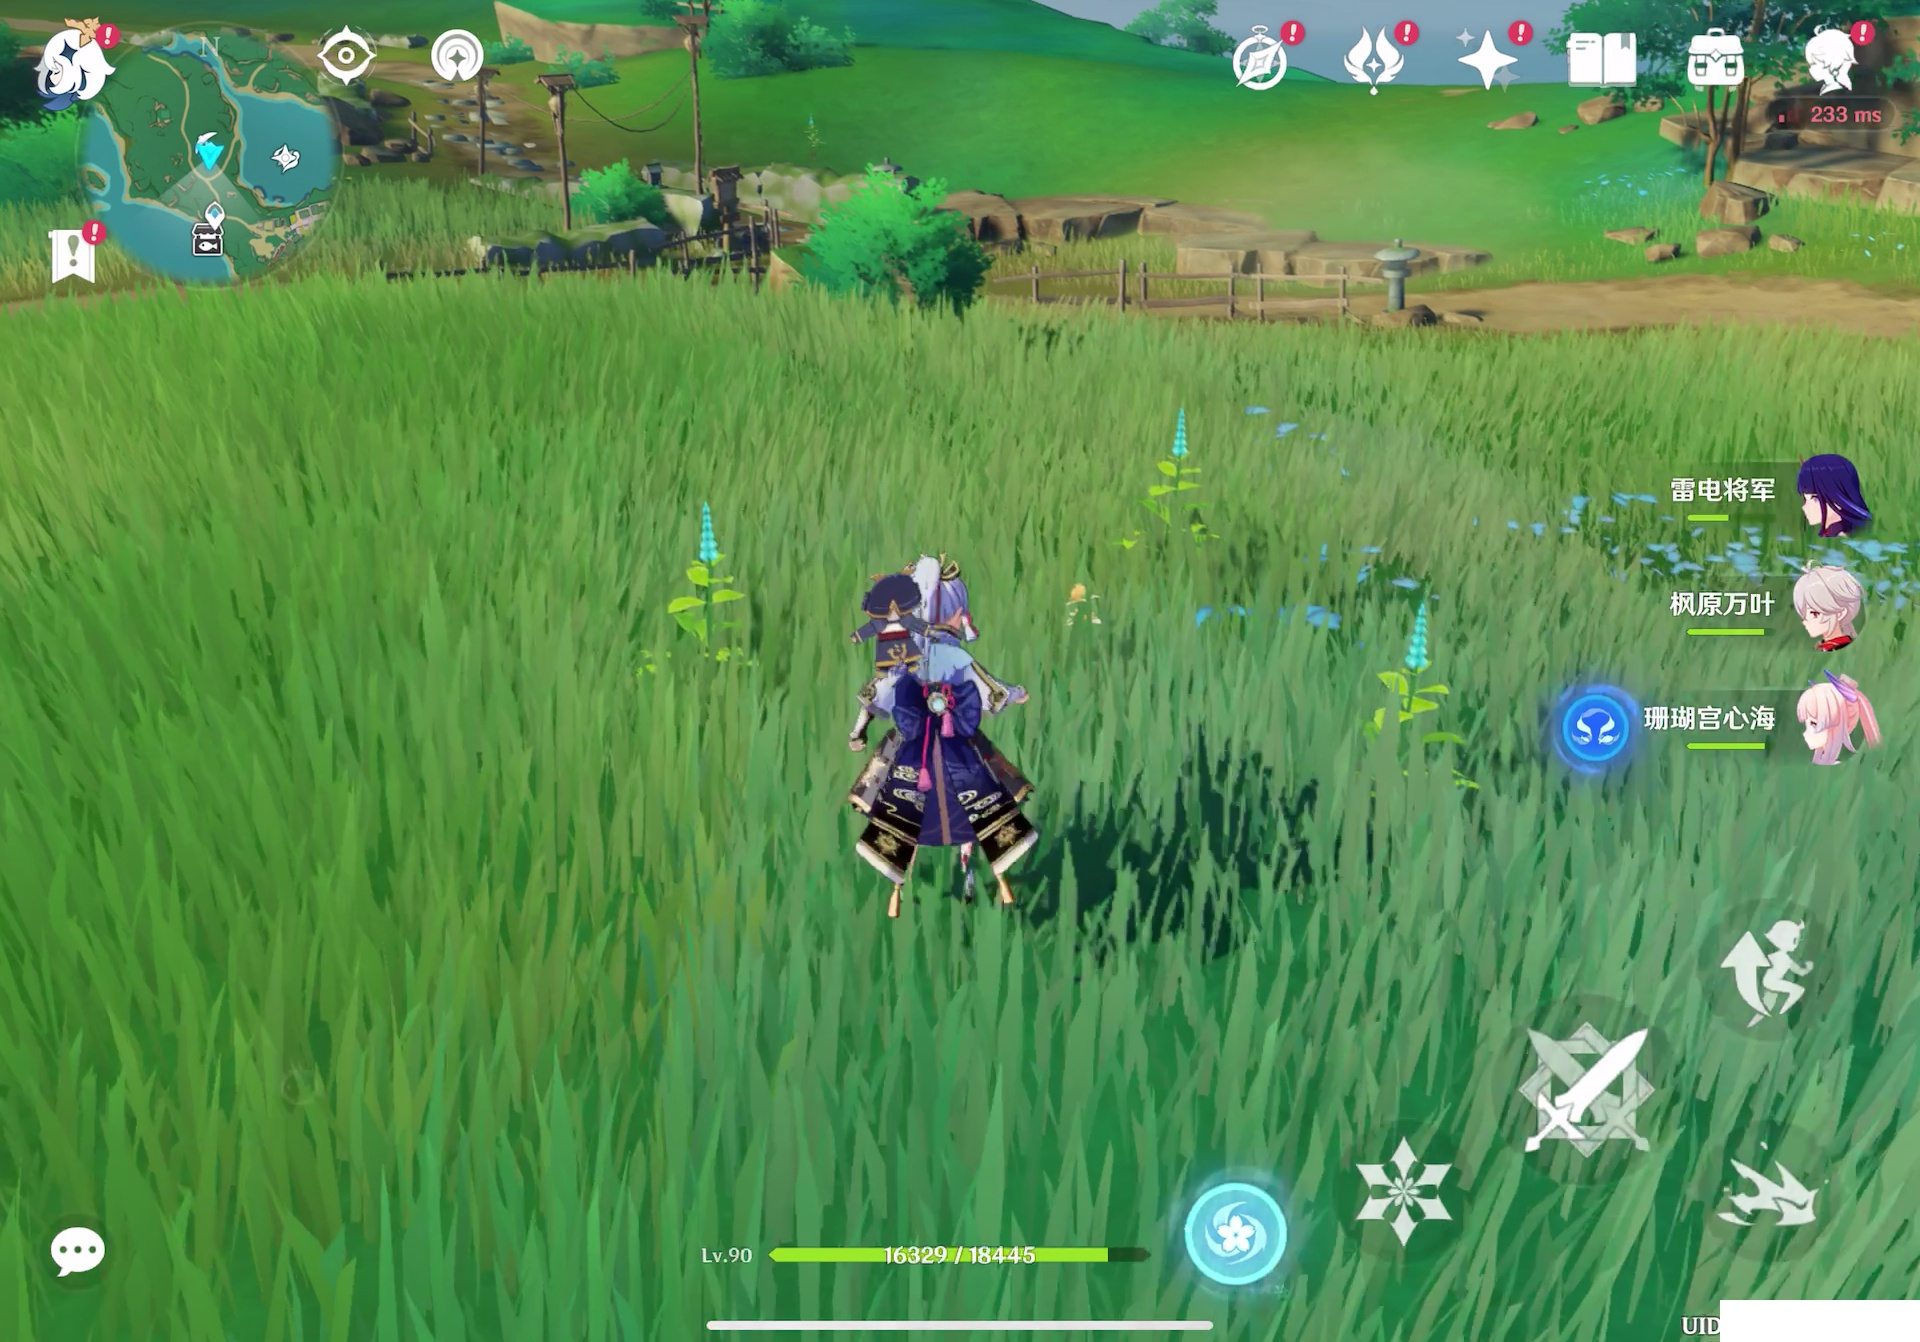没用的甜甜花: (1045, 570, 1110, 655)
没用的薄荷: (1336, 572, 1495, 805), (629, 477, 773, 707), (1122, 392, 1230, 581)
神里绫龟: (837, 554, 1029, 931)
